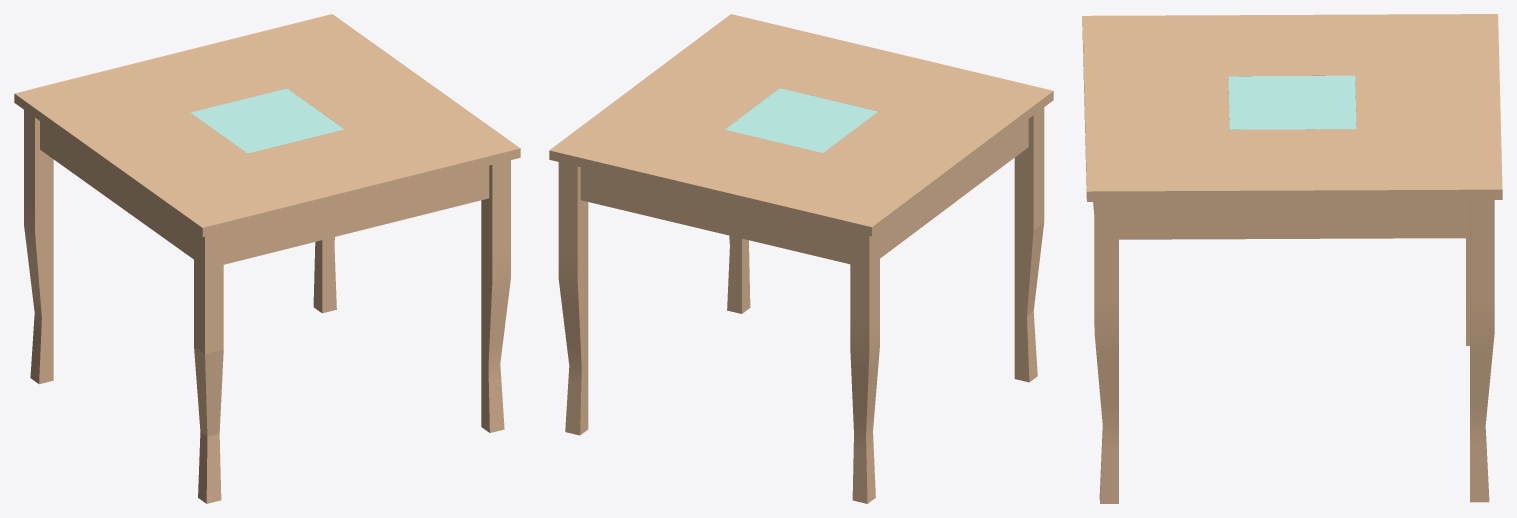
File: DeskBig-1.fbx
The picture shows the model from 3 angles, left to right: view 1: azimuth 30°, elevation 25°; view 2: azimuth 150°, elevation 25°; view 3: azimuth 270°, elevation 25°; orthographic projection. The views are drawn at different scales.
Parts seen in each view (by area): view 1: Cylinder.067; view 2: Cylinder.067; view 3: Cylinder.067.
Boxes of the visible parts, x1,y1,x2,y2 form: Cylinder.067: (14,14,520,503); Cylinder.067: (549,14,1053,503); Cylinder.067: (1082,14,1502,503).
Size of the model in its own units: 90.96 by 76 by 90.96.
